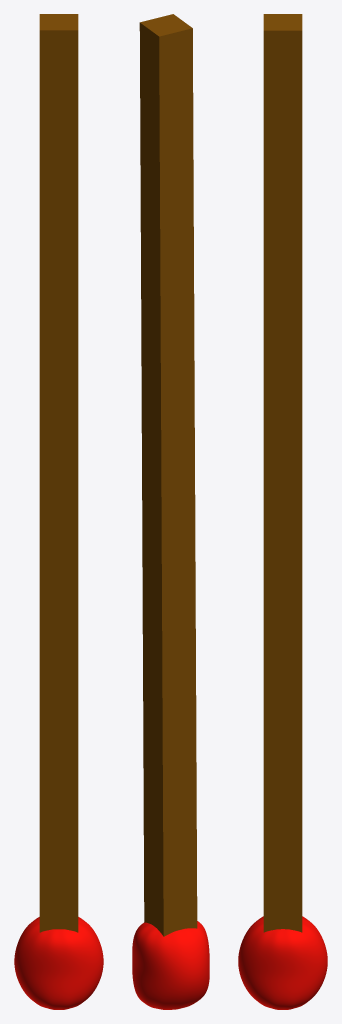
File: diem.glb
The picture shows the model from 3 angles, left to right: view 1: azimuth 90°, elevation 25°; view 2: azimuth 210°, elevation 25°; view 3: azimuth 270°, elevation 25°; orthographic projection.
Parts seen in each view (by area): view 1: Matchstick; view 2: Matchstick; view 3: Matchstick.
Part boxes in pixels (x1=…): Matchstick: x1=14, y1=14, x2=103, y2=1009; Matchstick: x1=132, y1=14, x2=209, y2=1009; Matchstick: x1=238, y1=14, x2=327, y2=1009.
Size of the model in its own units: 2.88 by 41.85 by 3.45.
